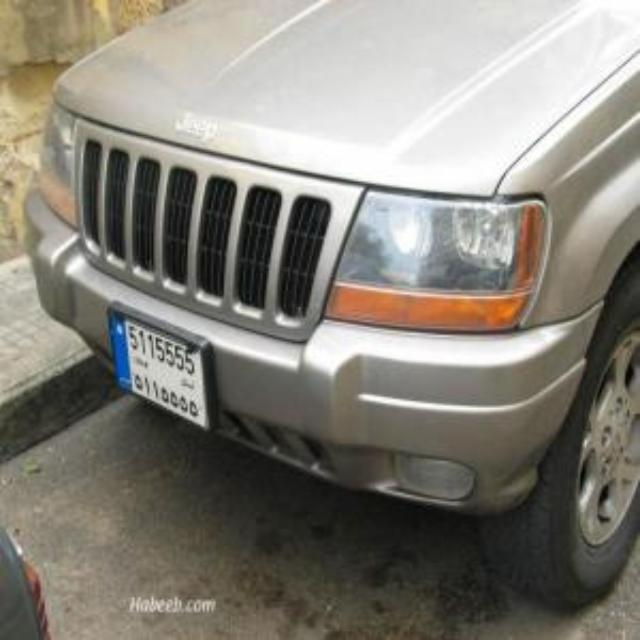License Plate: (108, 302, 218, 430)
